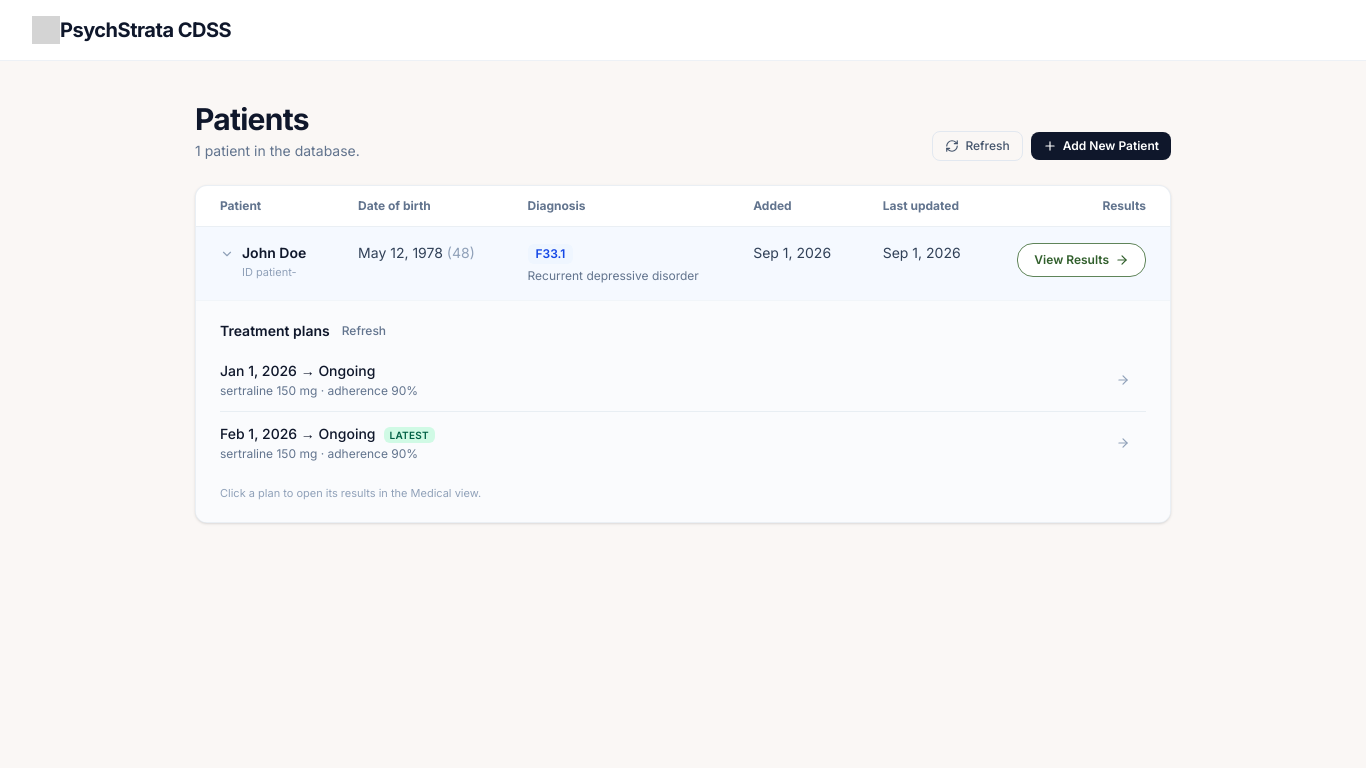
Test: PatientListView › surfaces an error when opening results fails
Click the button "View Results".
click(1082, 260)  # box [1017,243,1146,277]
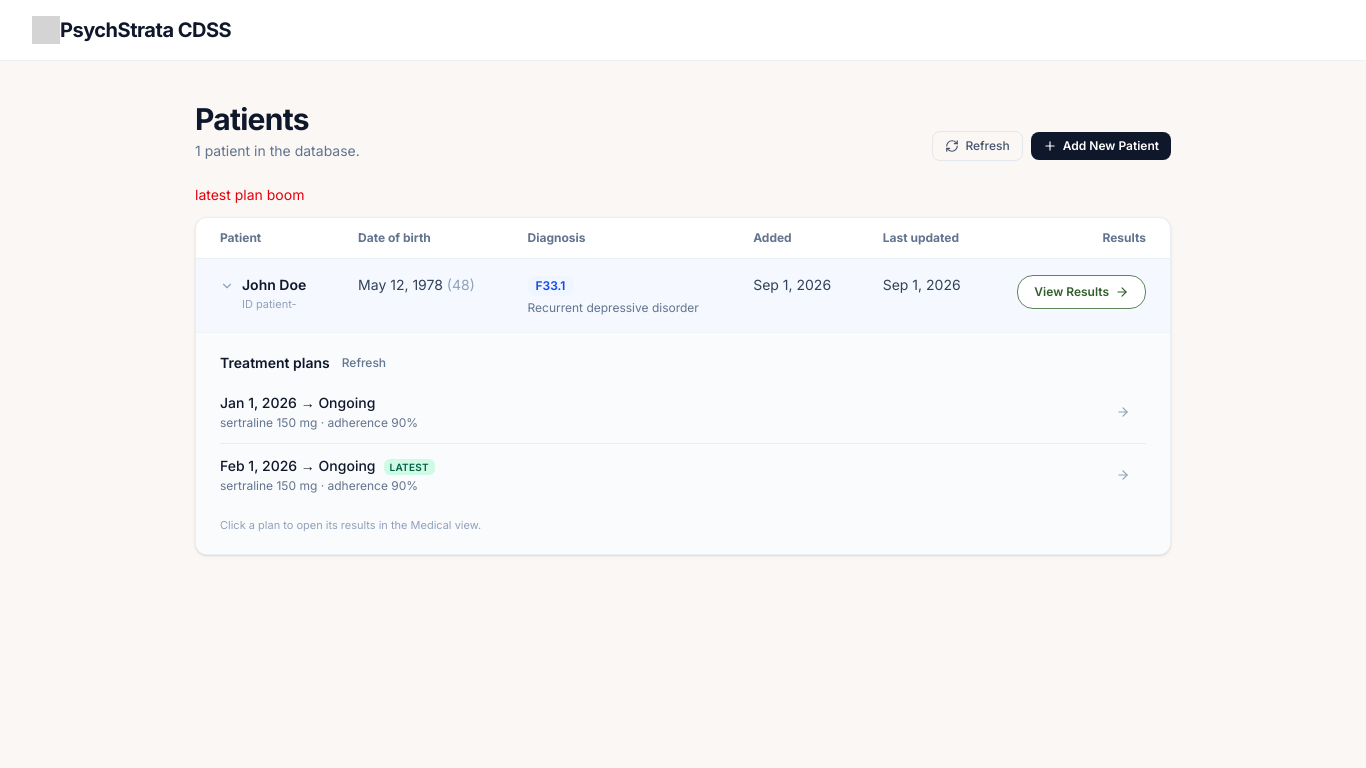
Result: the text "latest plan boom" is shown at [195,186,304,203]
